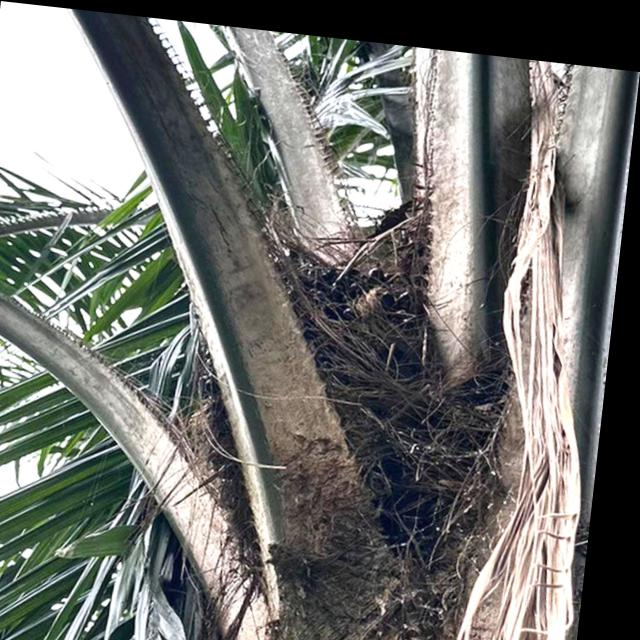unripe: (190, 208, 456, 499)
